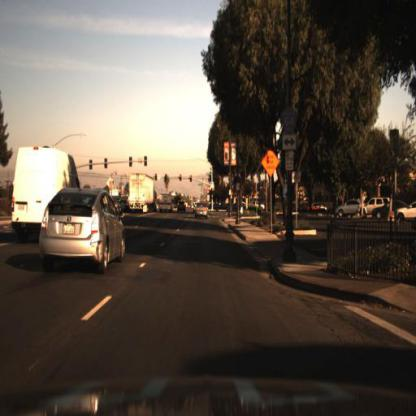car: (37, 182, 127, 274), (10, 143, 78, 236), (370, 198, 411, 219), (332, 192, 362, 219), (156, 189, 175, 216), (361, 192, 380, 219), (369, 199, 392, 220), (192, 201, 209, 221), (118, 195, 132, 214), (175, 196, 188, 214)
trafficLight-Red: (152, 170, 159, 184), (187, 170, 194, 184), (177, 169, 184, 182), (161, 170, 168, 182), (209, 184, 215, 195)
truck: (126, 165, 158, 210)
